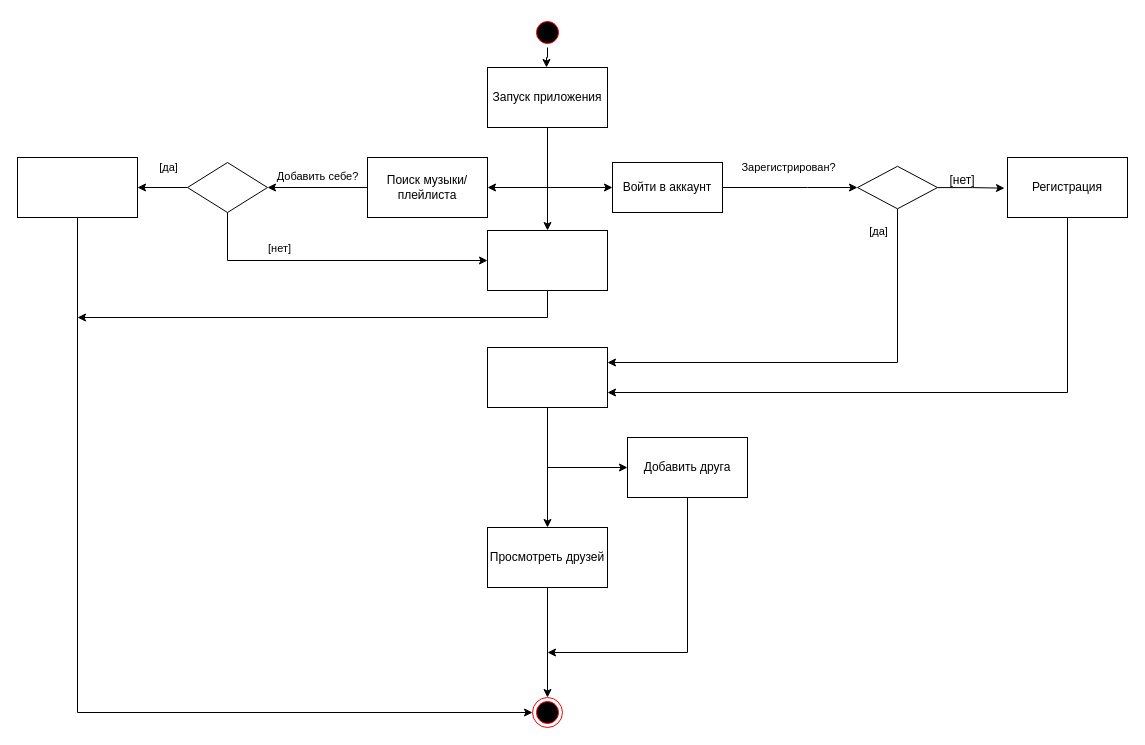
Image size: 1145x745. Some labels were removed from this diagram. The shapes that lost their labels are listed below. From the top down, each one's box as (x1, y1, x2, y2) in pixels, then its label:
(16, 156, 138, 218): Добавить себе музыку/плейлист
(486, 230, 608, 290): Прослушать музыку/плейлист
(486, 346, 608, 408): Вход в аккаунт
